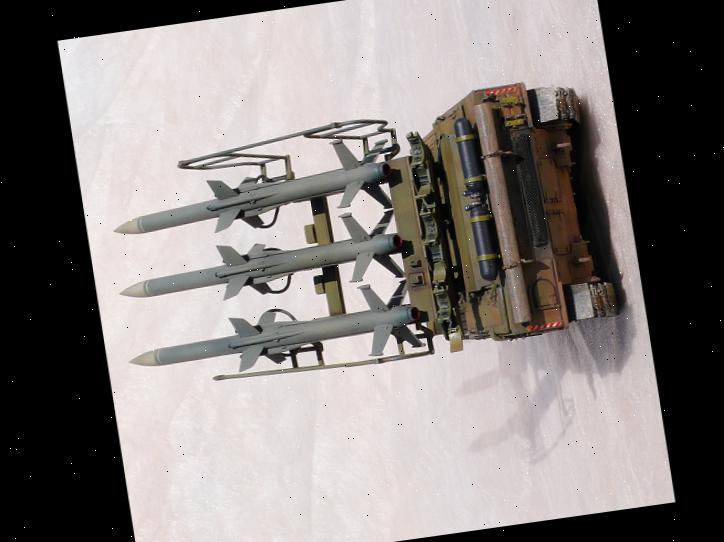armored_car: (88, 66, 629, 404)
